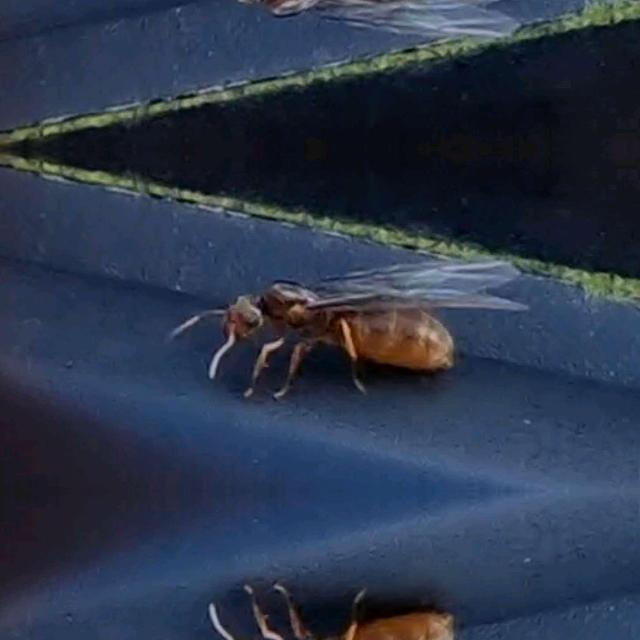Lasius: (191, 246, 473, 406), (191, 574, 473, 640), (191, 0, 473, 50)
